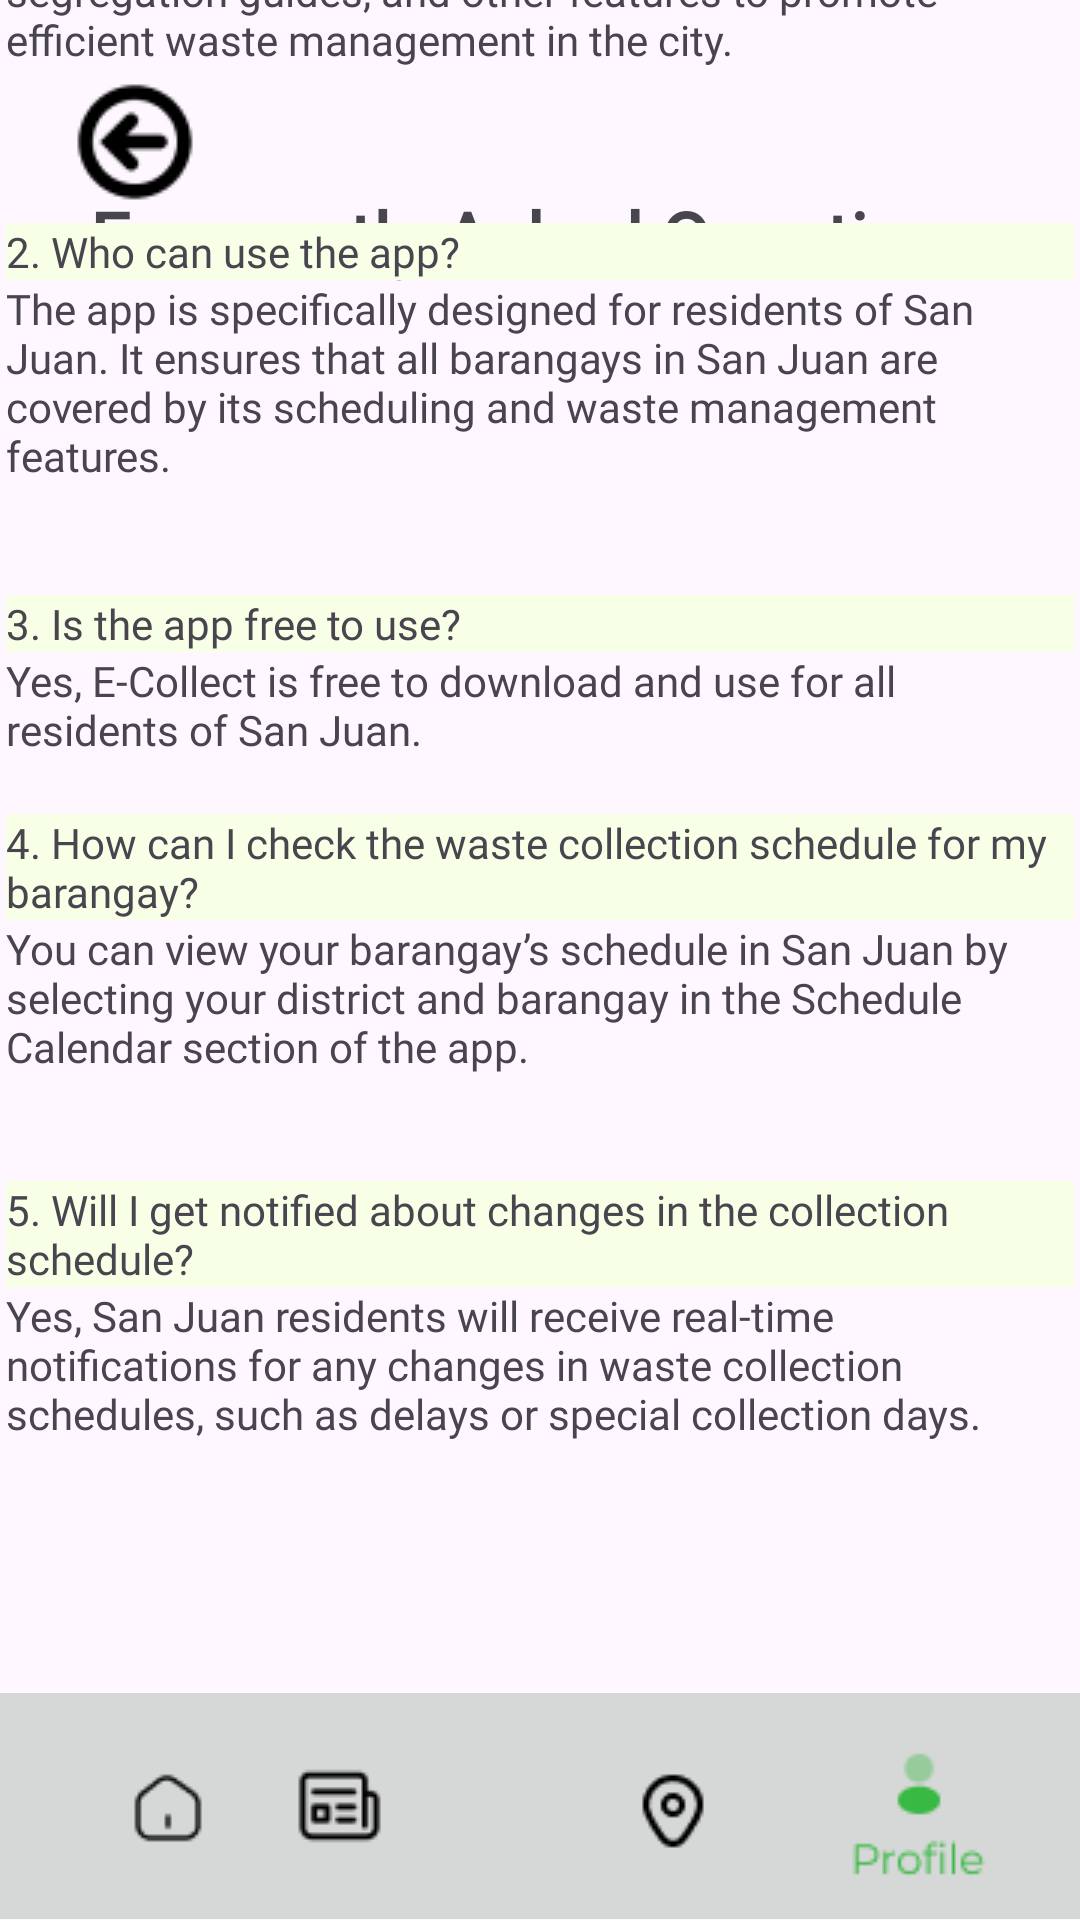

Icons on this 1080*1920 Android screen, each with its box as bbox=[x1, y1, x2, y2]:
back: bbox=[77, 84, 193, 223]
bulletin: bbox=[298, 1770, 381, 1842]
home: bbox=[134, 1774, 202, 1842]
map: bbox=[642, 1774, 704, 1848]
